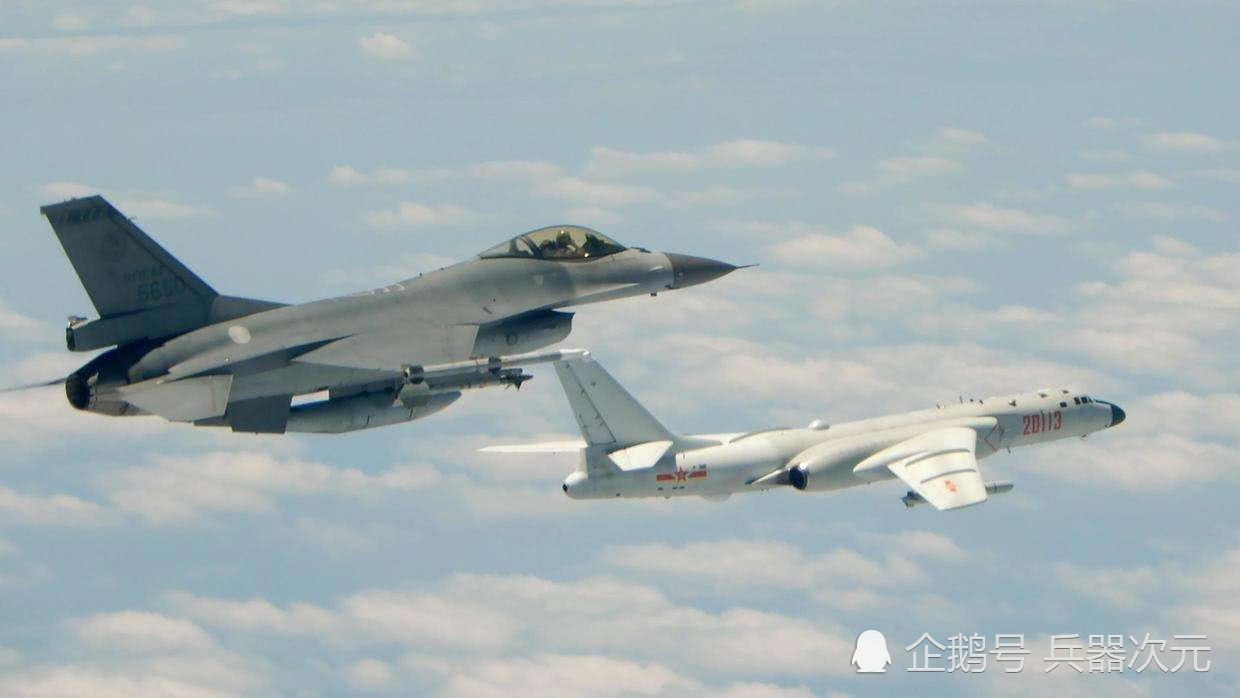airplane: (13, 176, 761, 432), (529, 350, 1128, 508)
